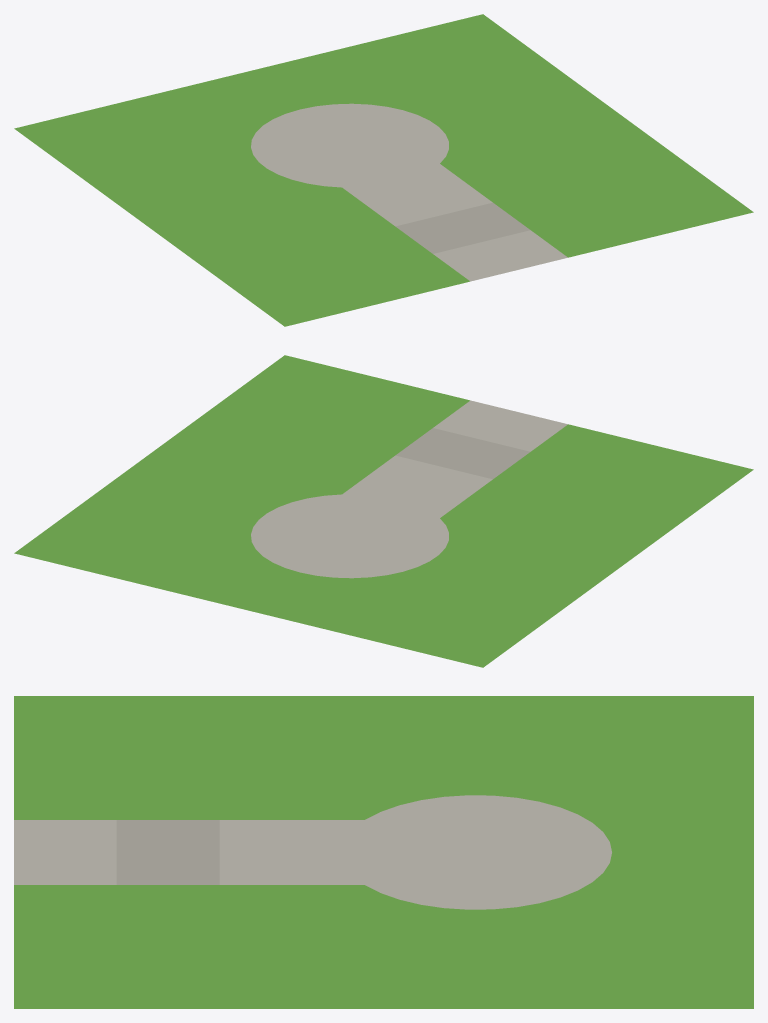
The model's file is calcada-fim.glb.
3 renders of one model, top to bottom at view 1: azimuth 30°, elevation 25°; view 2: azimuth 150°, elevation 25°; view 3: azimuth 270°, elevation 25°, orthographic. The views are drawn at different scales.
Parts seen in each view (by area): view 1: Grama, Calcada; view 2: Grama, Calcada; view 3: Grama, Calcada.
Boxes of the visible parts, x1,y1,x2,y2 form: Grama: (14,14,753,326); Calcada: (251,103,567,281); Grama: (14,355,753,667); Calcada: (251,400,567,578); Grama: (14,696,753,1008); Calcada: (14,795,611,909).
Size of the model in its own units: 12 by 0 by 12.
